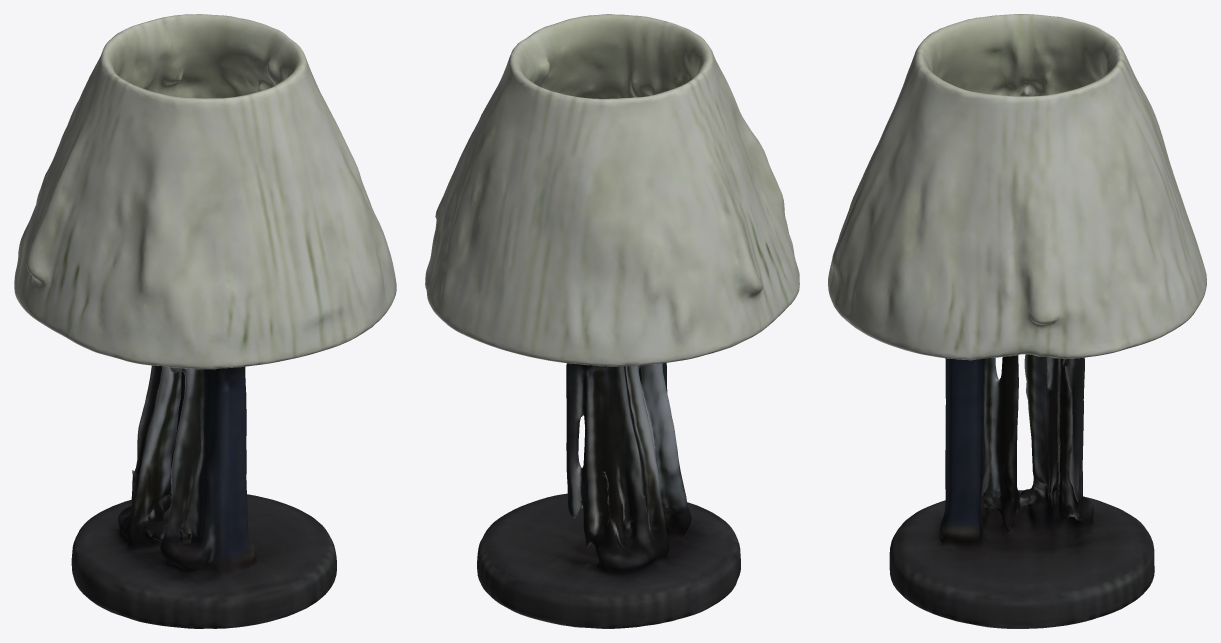
The model's file is dc20a1556b61_strange_lamp__3d_as.fbx.
3 views of the same model, side by side, from view 1: azimuth 30°, elevation 25°; view 2: azimuth 150°, elevation 25°; view 3: azimuth 270°, elevation 25° (orthographic).
Visible parts, largest first — view 1: high_poly; view 2: high_poly; view 3: high_poly.
Boxes of the visible parts, <box> form: high_poly: <box>14,14,396,628</box>; high_poly: <box>425,14,799,628</box>; high_poly: <box>828,14,1206,628</box>.
Size of the model in its own units: 65.31 by 100 by 66.
